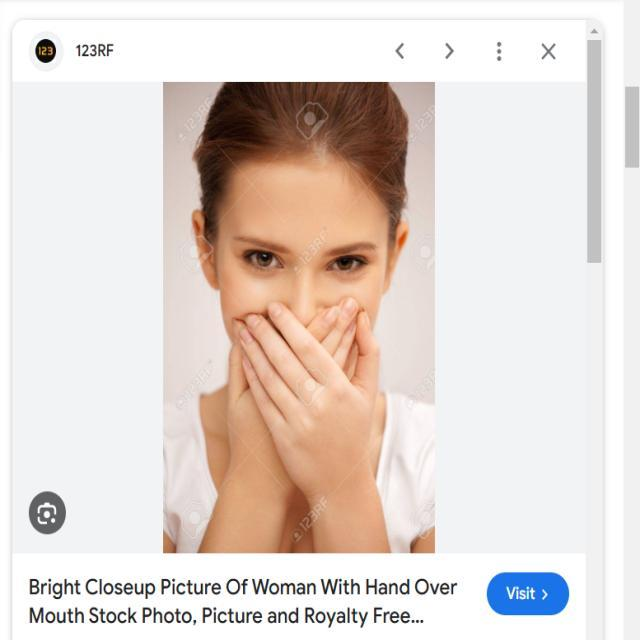face_with_hand: (186, 157, 409, 398)
